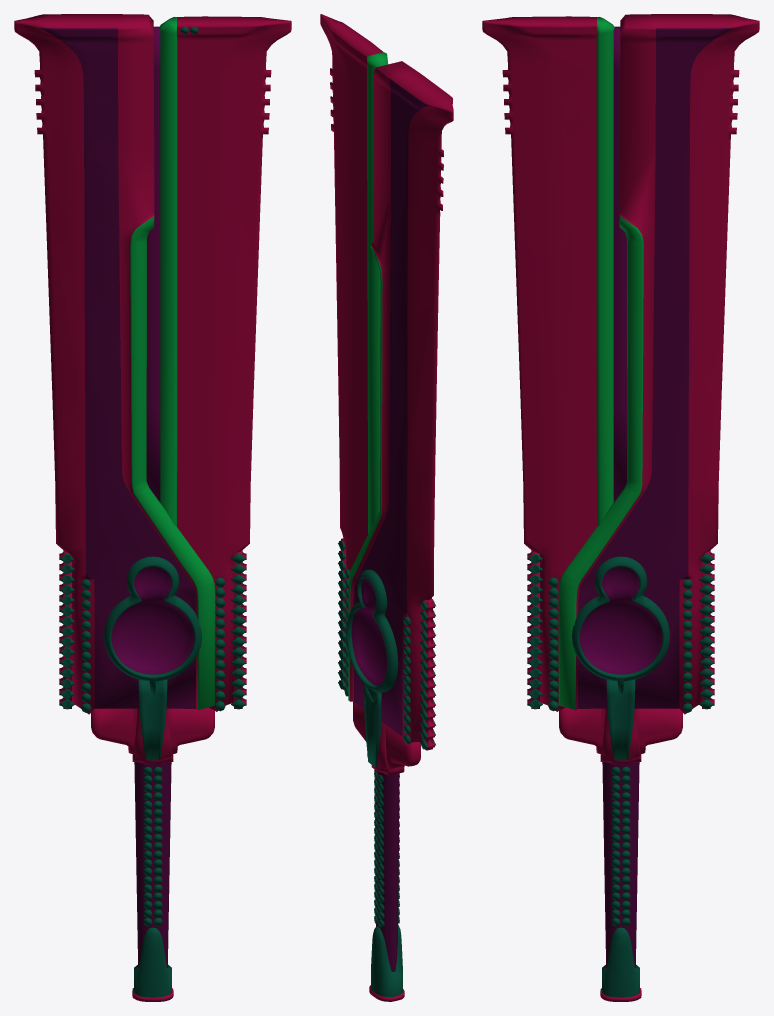
Rendered from Sword.fbx.
3 views of the same model, side by side, from view 1: azimuth 90°, elevation 25°; view 2: azimuth 210°, elevation 25°; view 3: azimuth 270°, elevation 25° (orthographic). The views are drawn at different scales.
Parts seen in each view (by area): view 1: Sword; view 2: Sword; view 3: Sword.
Part boxes in pixels (x1,y1,x2,y2): Sword: (14, 14, 291, 1001); Sword: (320, 14, 453, 1001); Sword: (482, 14, 759, 1001).
Bounding box in the file's own units: 5.83 × 131 × 33.73.
